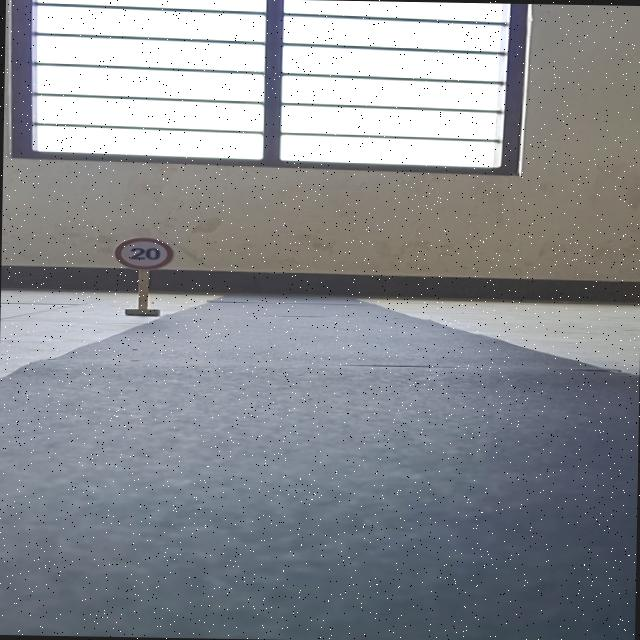Speed20: (105, 232, 183, 274)
